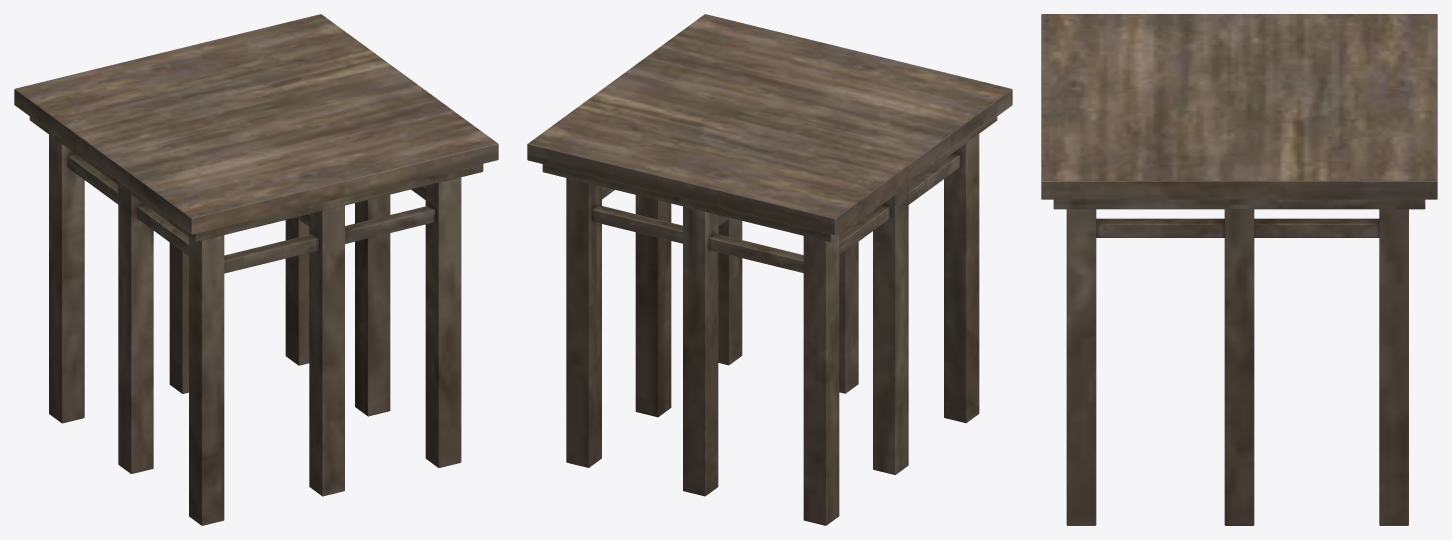
File: SM_Floor_Wood_e58dcb.glb
3 views of the same model, side by side, from view 1: azimuth 30°, elevation 25°; view 2: azimuth 150°, elevation 25°; view 3: azimuth 270°, elevation 25° (orthographic). The views are drawn at different scales.
Bounding box in the file's own units: 4.01 × 4 × 4.01.
Materials: 1 (1 with a texture image).
